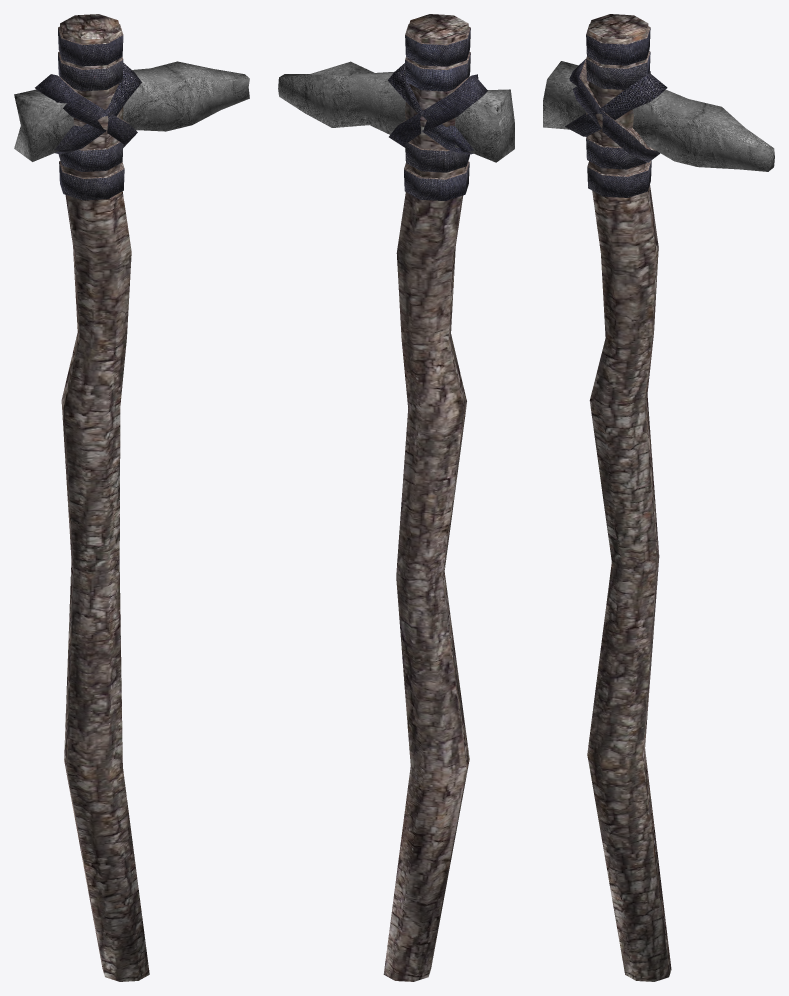
File: Stonepickaxe.fbx
3 renders of one model, left to right at view 1: azimuth 30°, elevation 25°; view 2: azimuth 150°, elevation 25°; view 3: azimuth 330°, elevation 25°, orthographic. The views are drawn at different scales.
Visible parts, largest first — view 1: Cube.001; view 2: Cube.001; view 3: Cube.001.
Part boxes in pixels (x1,y1,x2,y2): Cube.001: (14,14,249,981); Cube.001: (278,14,514,981); Cube.001: (543,14,774,981).
Bounding box in the file's own units: 22.62 × 6.39 × 91.9.
3 materials, 3 textured.
